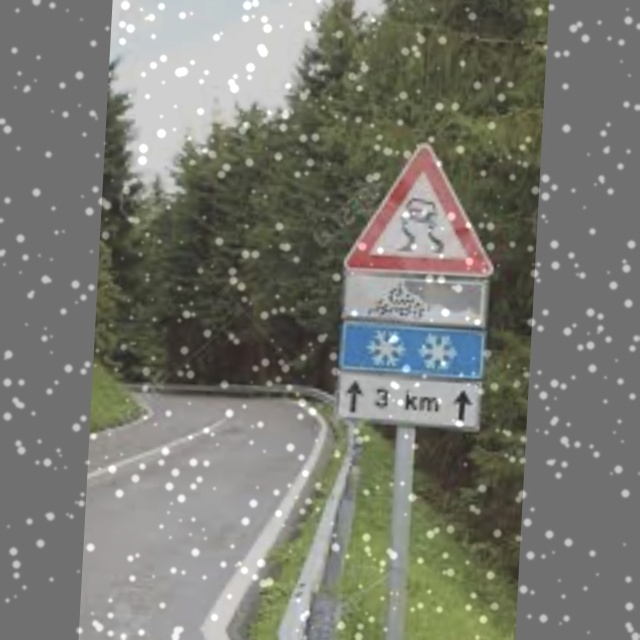Slippery_Road: (349, 139, 500, 276)
